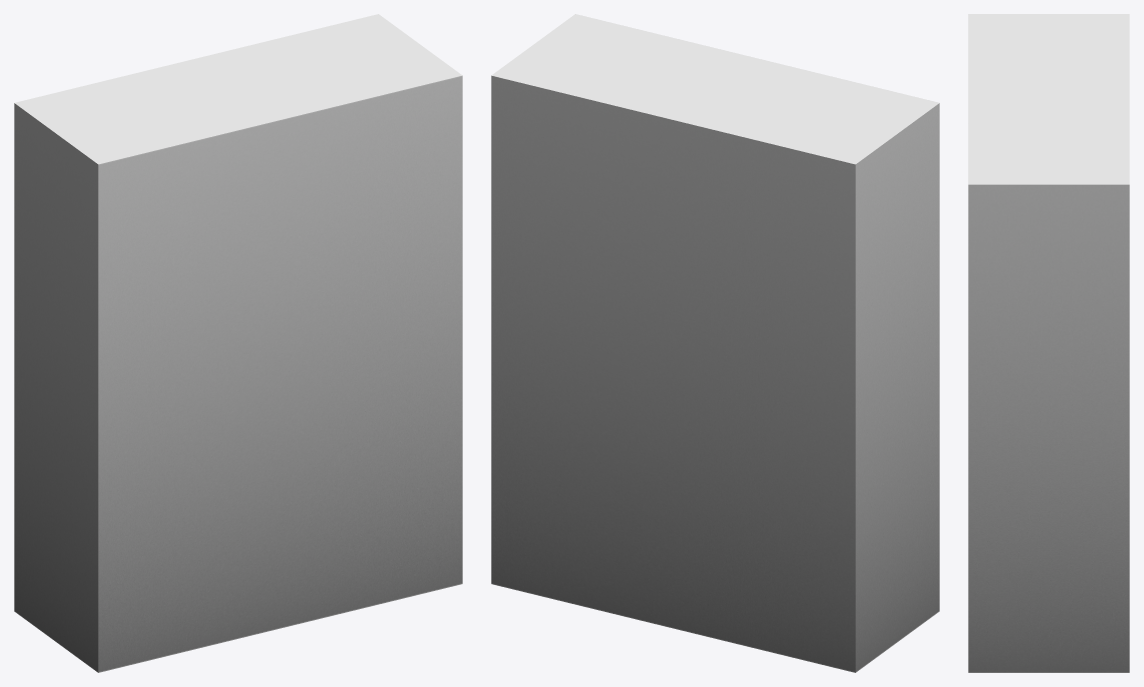
The model's file is 2022-03-mix.fbx.
3 renders of one model, left to right at view 1: azimuth 30°, elevation 25°; view 2: azimuth 150°, elevation 25°; view 3: azimuth 270°, elevation 25°, orthographic. The views are drawn at different scales.
Parts seen in each view (by area): view 1: 03_obj_mix; view 2: 03_obj_mix; view 3: 03_obj_mix.
Boxes of the visible parts, x1,y1,x2,y2 form: 03_obj_mix: (14,14,462,672); 03_obj_mix: (491,14,939,672); 03_obj_mix: (968,14,1129,672).
Size of what is drawn, in the model's own units: 15 by 20 by 6.
1 material, 1 textured.
